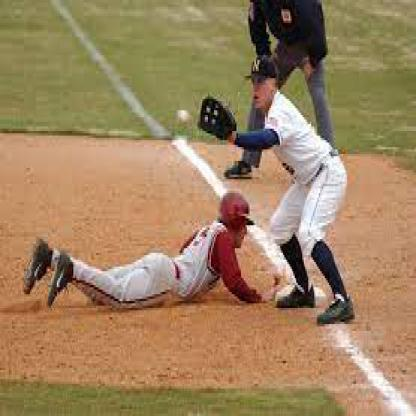Fall_Down: (18, 186, 283, 318)
